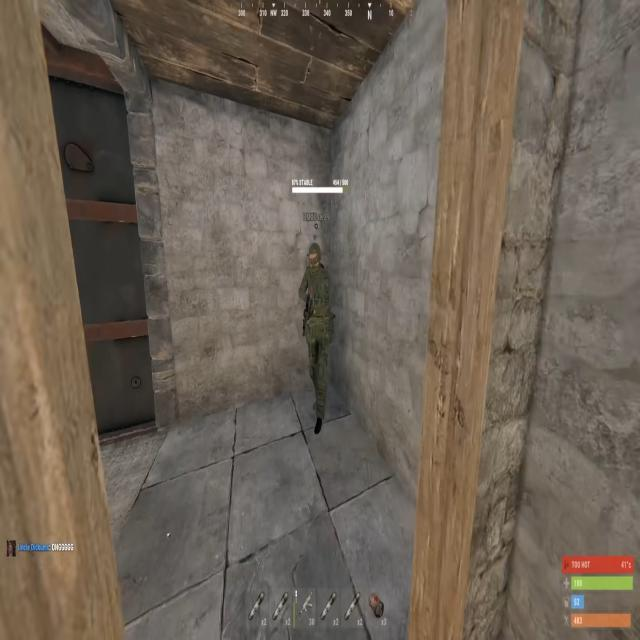Player: (296, 237, 336, 439)
